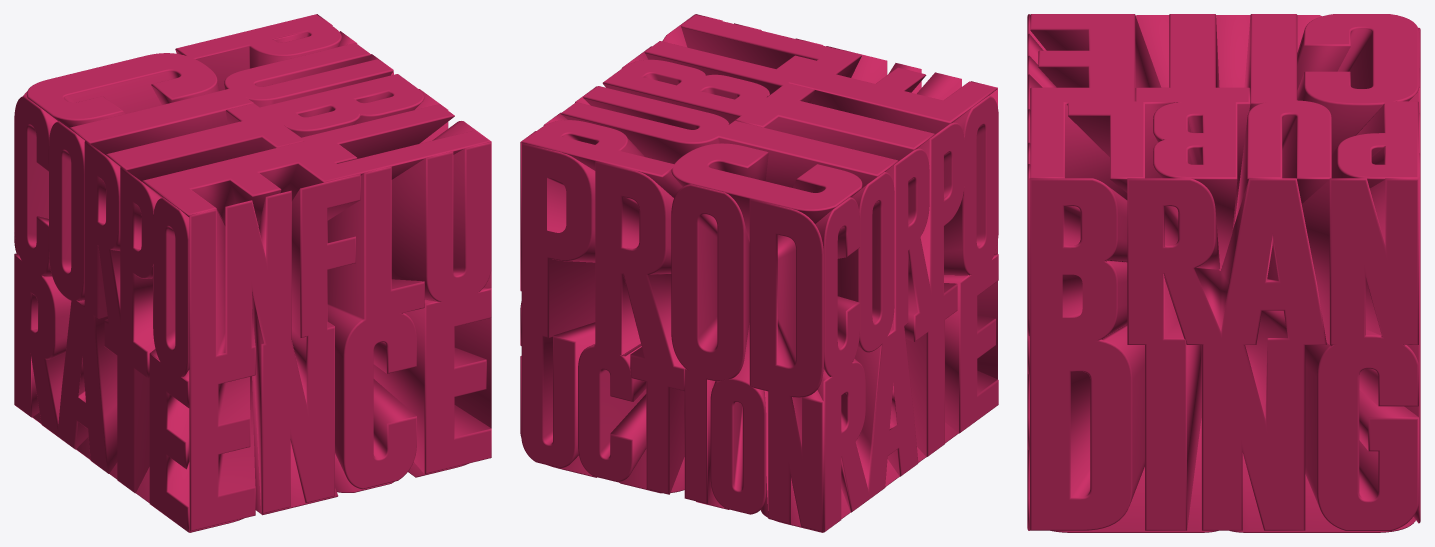
The picture shows the model from 3 angles, left to right: view 1: azimuth 30°, elevation 25°; view 2: azimuth 150°, elevation 25°; view 3: azimuth 270°, elevation 25°; orthographic projection. The views are drawn at different scales.
Visible parts, largest first — view 1: groupie; view 2: groupie; view 3: groupie.
Boxes of the visible parts, bbox=[...] form: groupie: bbox=[14, 14, 491, 532]; groupie: bbox=[520, 14, 998, 532]; groupie: bbox=[1027, 14, 1420, 532].
Bounding box in the file's own units: 5.17 × 5.17 × 5.18.
